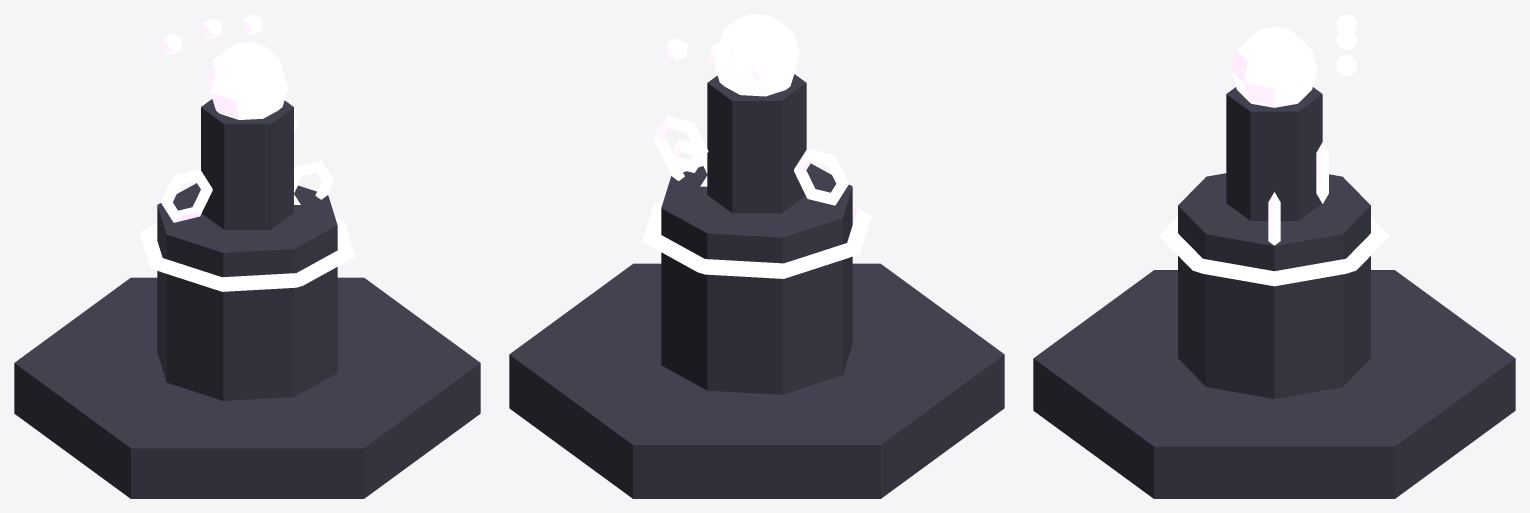
The model's file is tower_chain.glb.
3 renders of one model, left to right at view 1: azimuth 30°, elevation 25°; view 2: azimuth 150°, elevation 25°; view 3: azimuth 270°, elevation 25°, orthographic. The views are drawn at different scales.
Parts seen in each view (by area): view 1: tower_chain; view 2: tower_chain; view 3: tower_chain.
Boxes of the visible parts, box(x1,y1,x2,y2) form: tower_chain: box(14, 14, 480, 498); tower_chain: box(509, 14, 1004, 498); tower_chain: box(1033, 14, 1515, 498).
Size of the model in its own units: 0.866 by 0.875 by 1.
